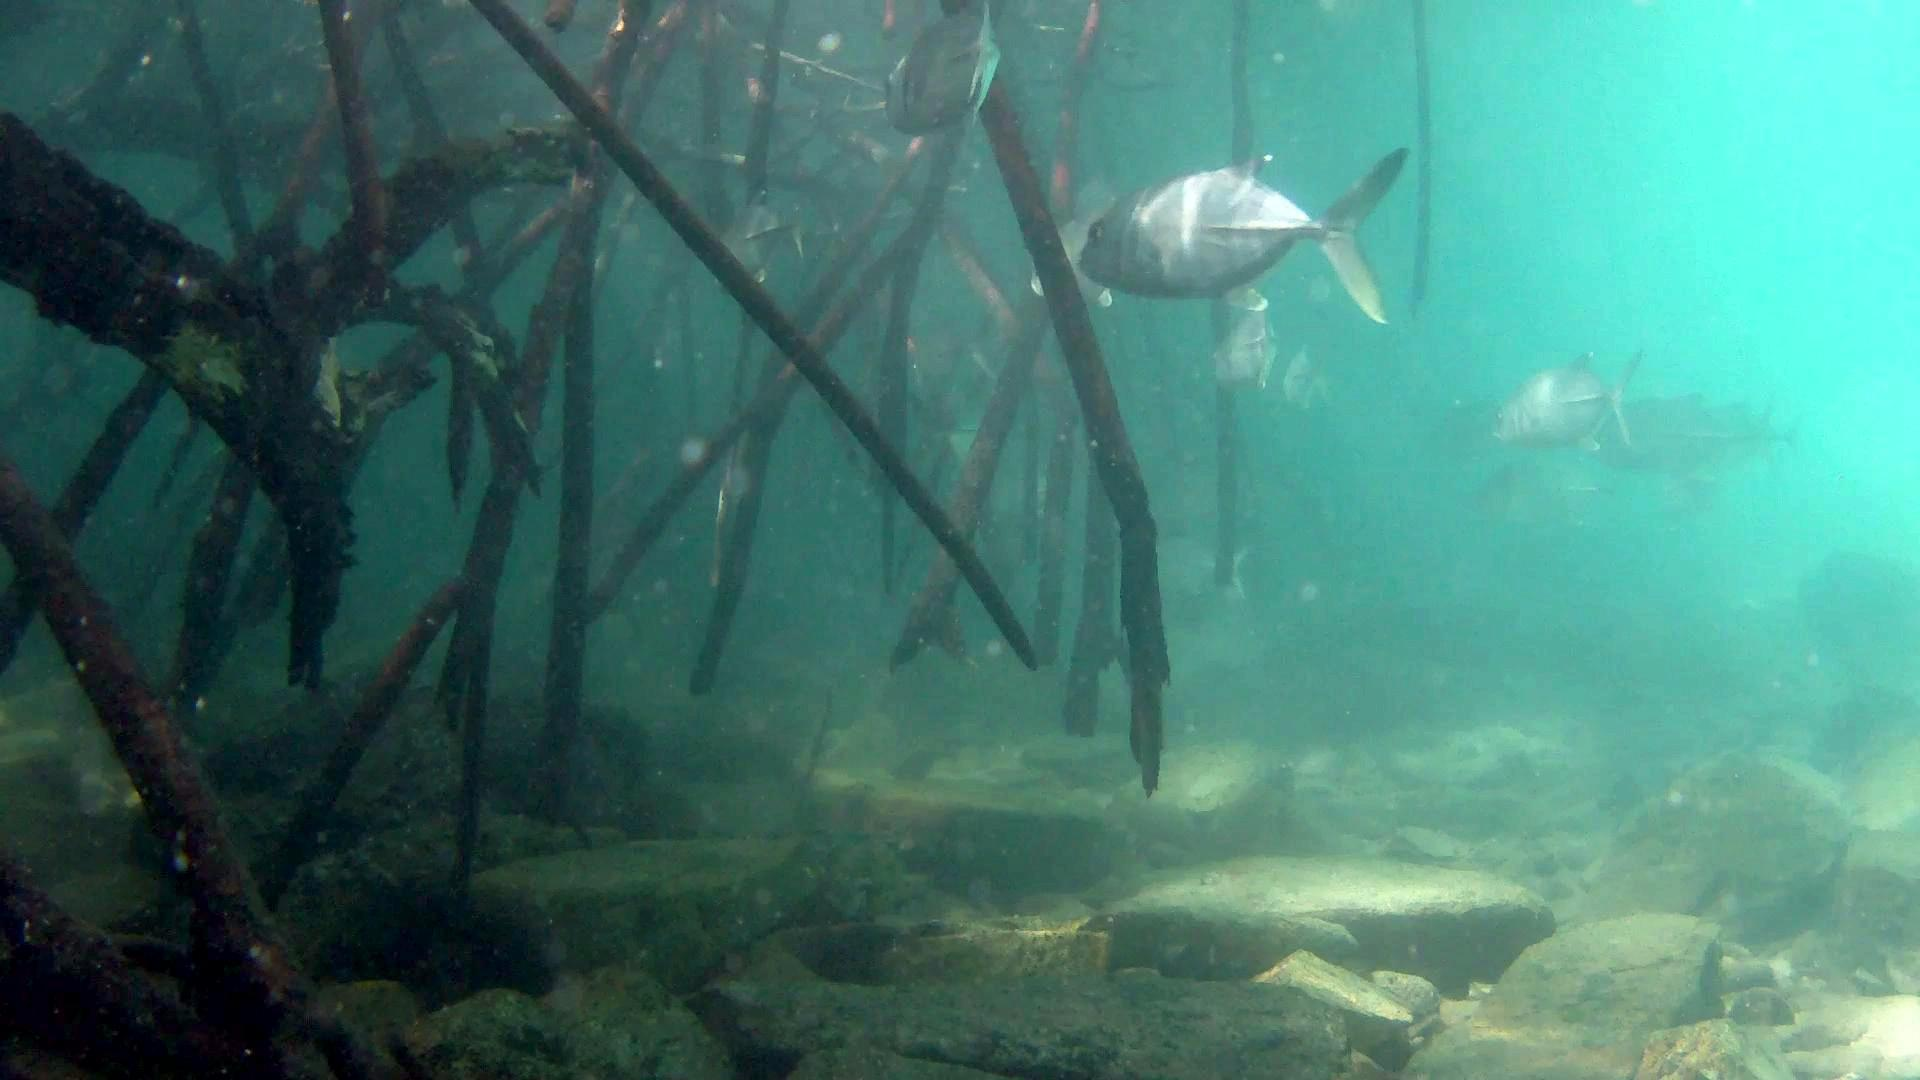caranx: (1058, 138, 1429, 342)
